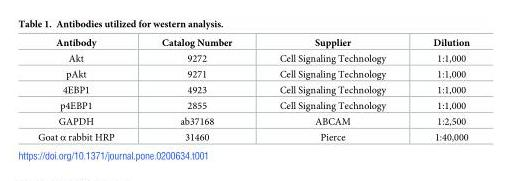table: (37, 37, 468, 142)
table column: (255, 37, 408, 142), (137, 37, 255, 142), (37, 37, 137, 142), (408, 37, 468, 142)
table column header: (37, 37, 468, 50)
table row: (37, 50, 468, 66), (37, 81, 468, 97), (37, 97, 468, 113), (37, 66, 468, 81), (37, 113, 468, 128), (37, 128, 468, 142), (37, 37, 468, 50)
